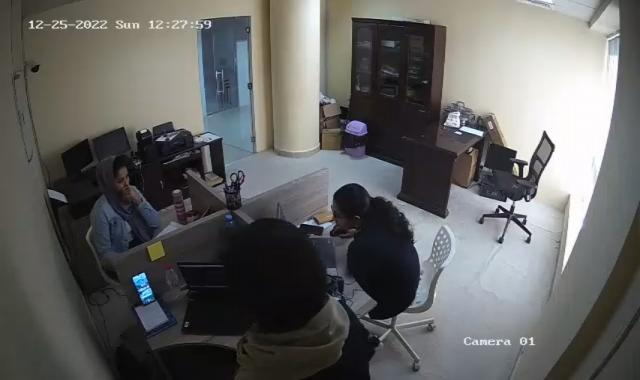no_hairnet: (218, 220, 324, 332), (330, 183, 385, 232), (96, 155, 130, 190)
